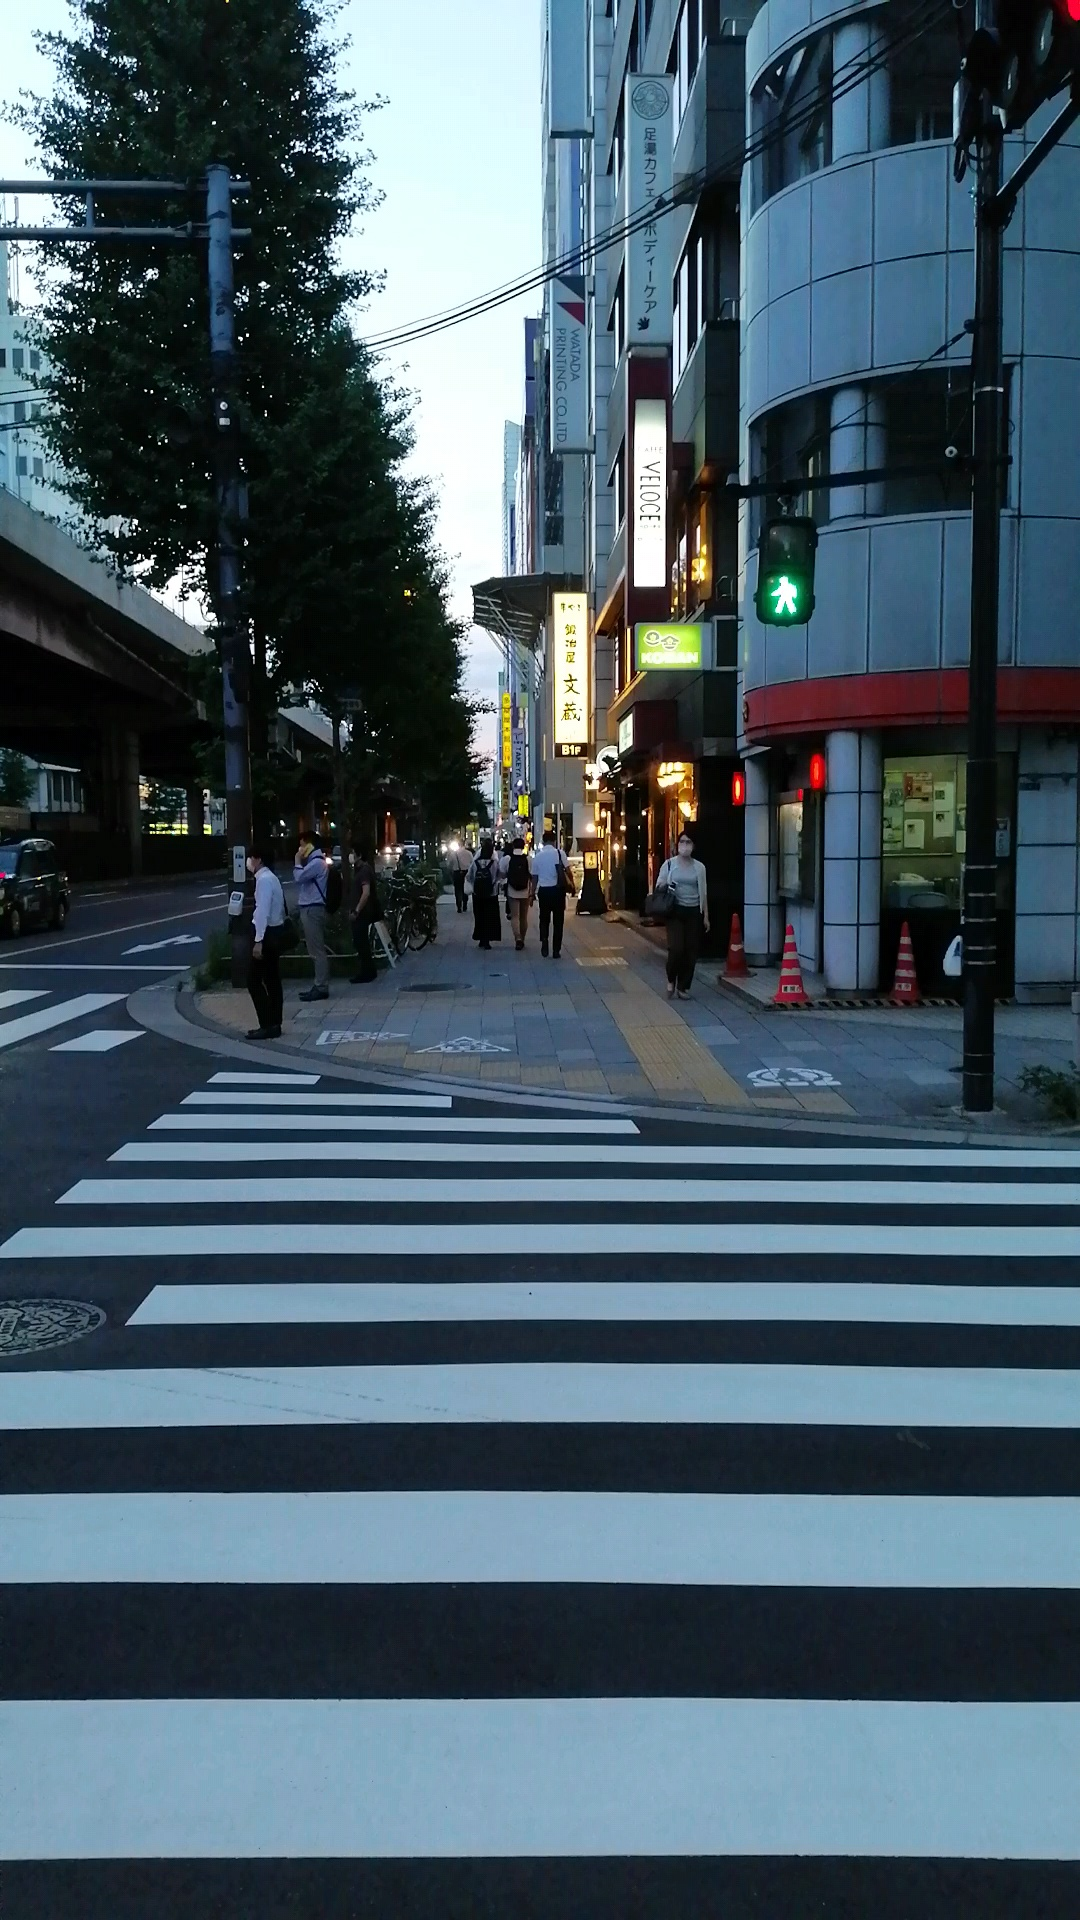green: (757, 520, 818, 625)
